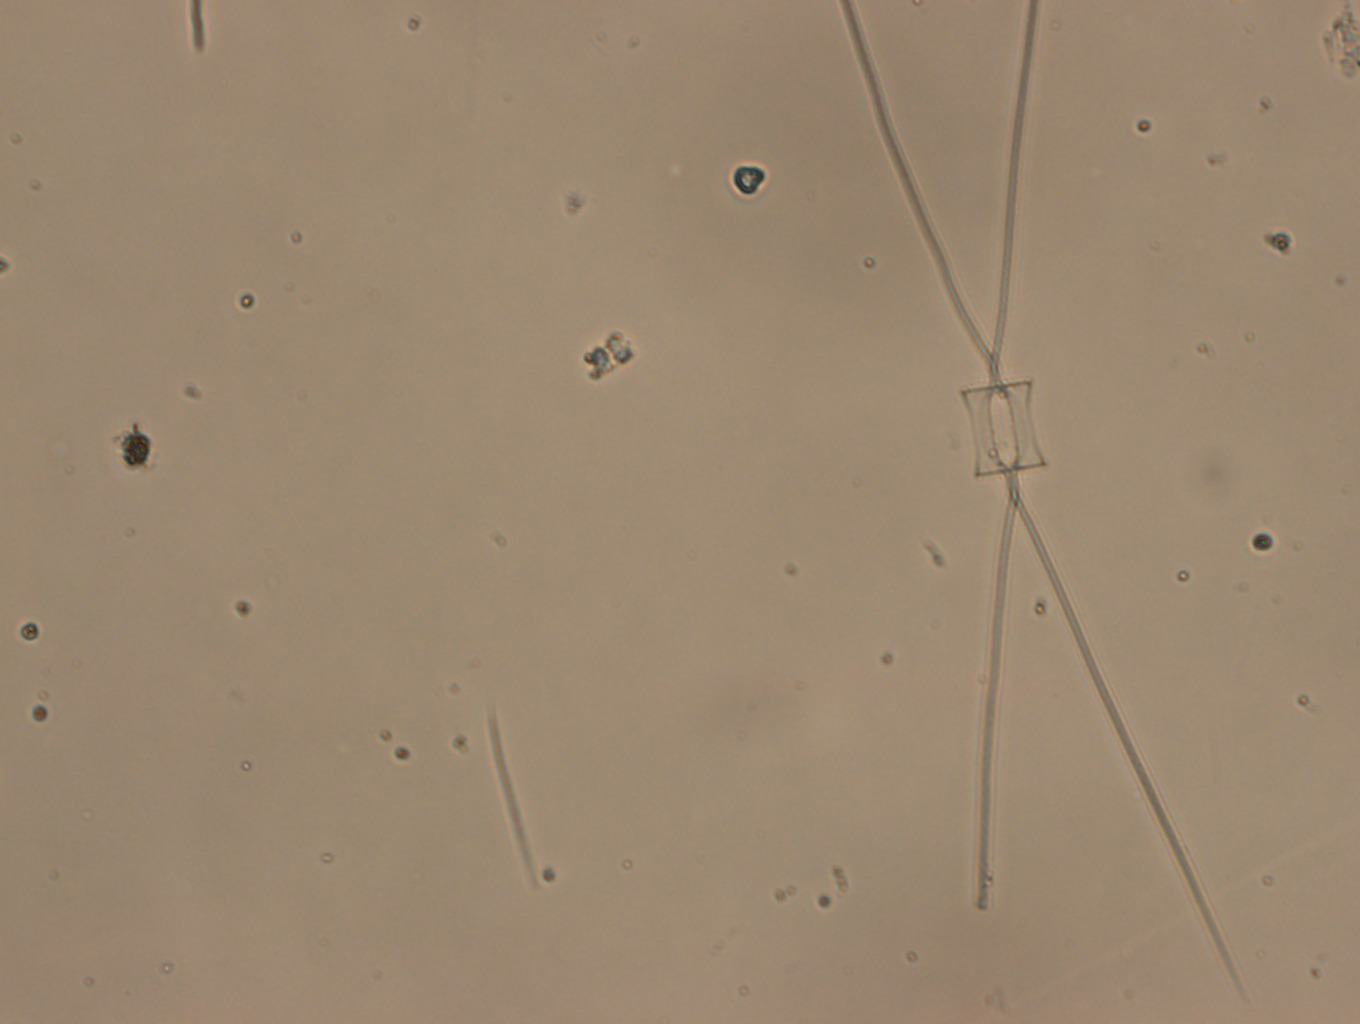chaetoceros: (830, 3, 1252, 1001)
